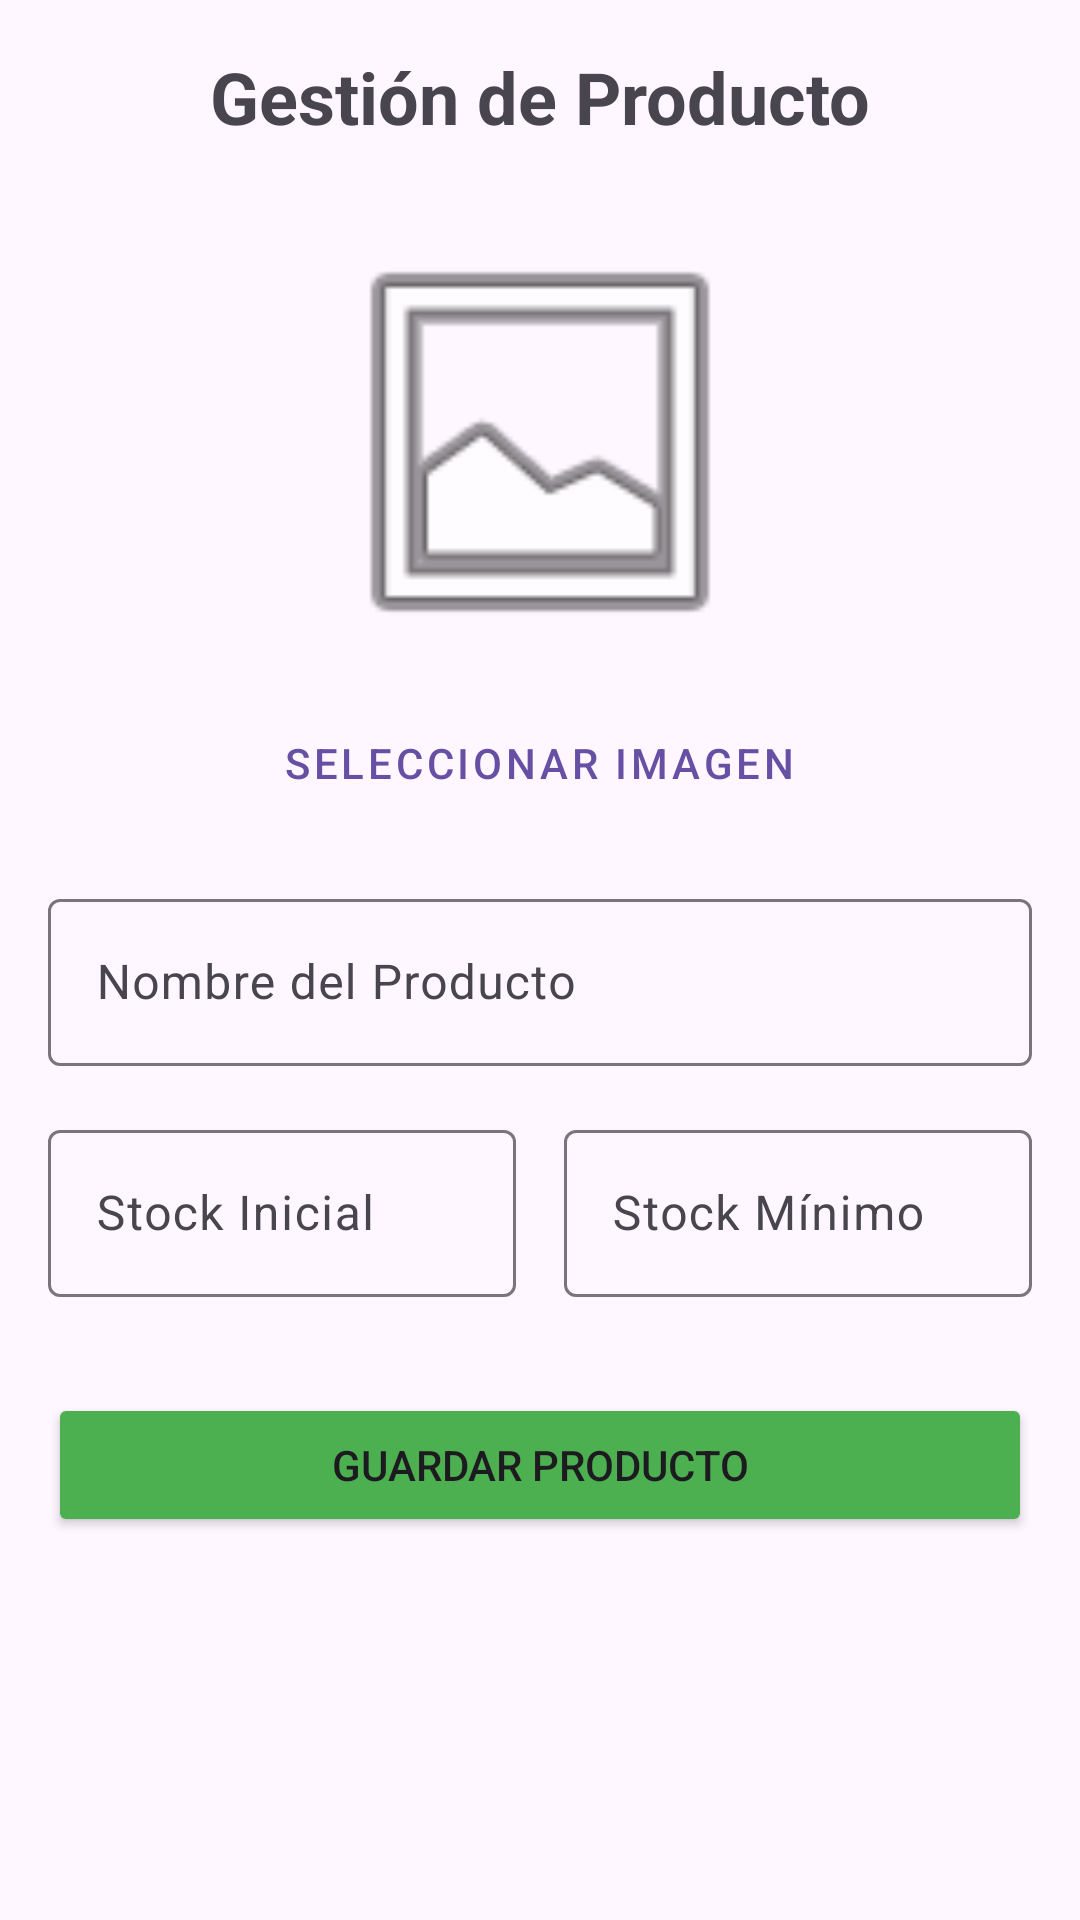

Where icons sit on this 1080w x 1920h app screen, as {"x1": x1, "y1": y1, "x2": x2, "y2": y2}:
gallery: {"x1": 370, "y1": 272, "x2": 710, "y2": 612}
